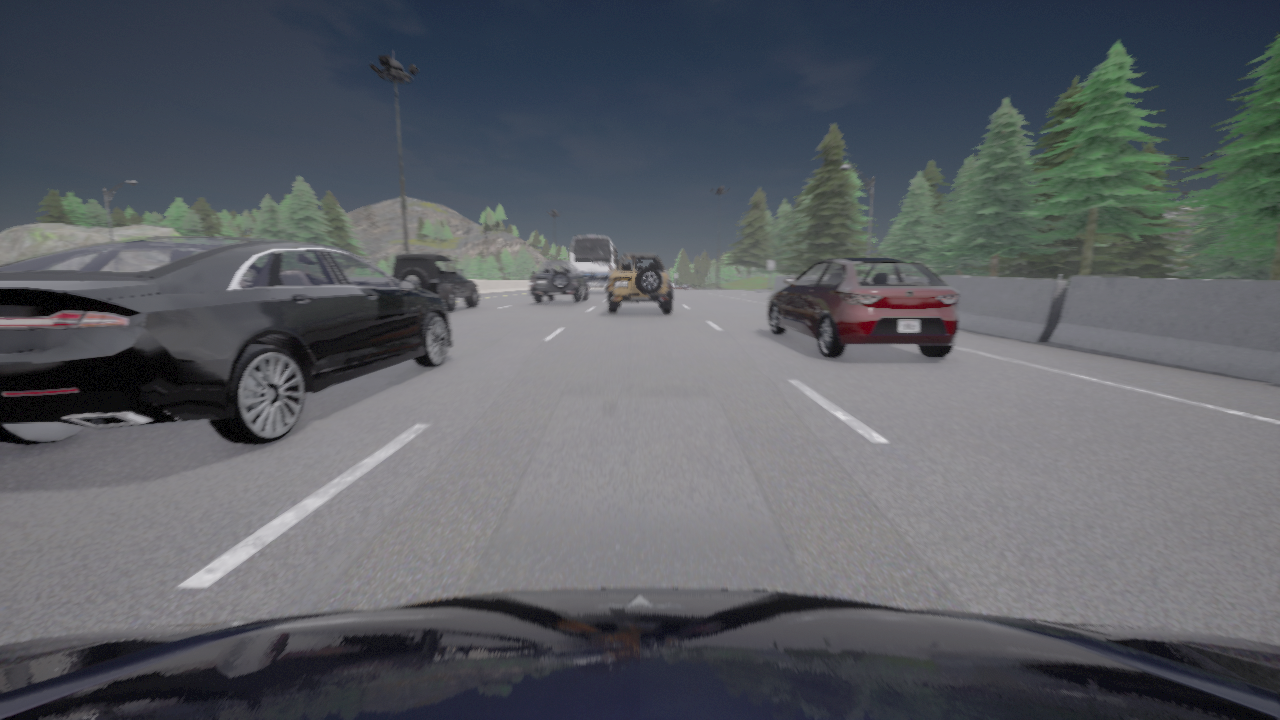cyclist: (0, 588, 1279, 719), (0, 237, 451, 445), (767, 257, 960, 358), (392, 253, 478, 312), (607, 253, 672, 313), (571, 236, 618, 292), (532, 261, 588, 303), (529, 280, 533, 295)
